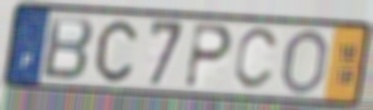7: (147, 17, 187, 89)
B: (39, 13, 96, 84)
C: (232, 25, 283, 93), (94, 18, 140, 85)
O: (279, 27, 331, 97)
P: (182, 21, 235, 91)
